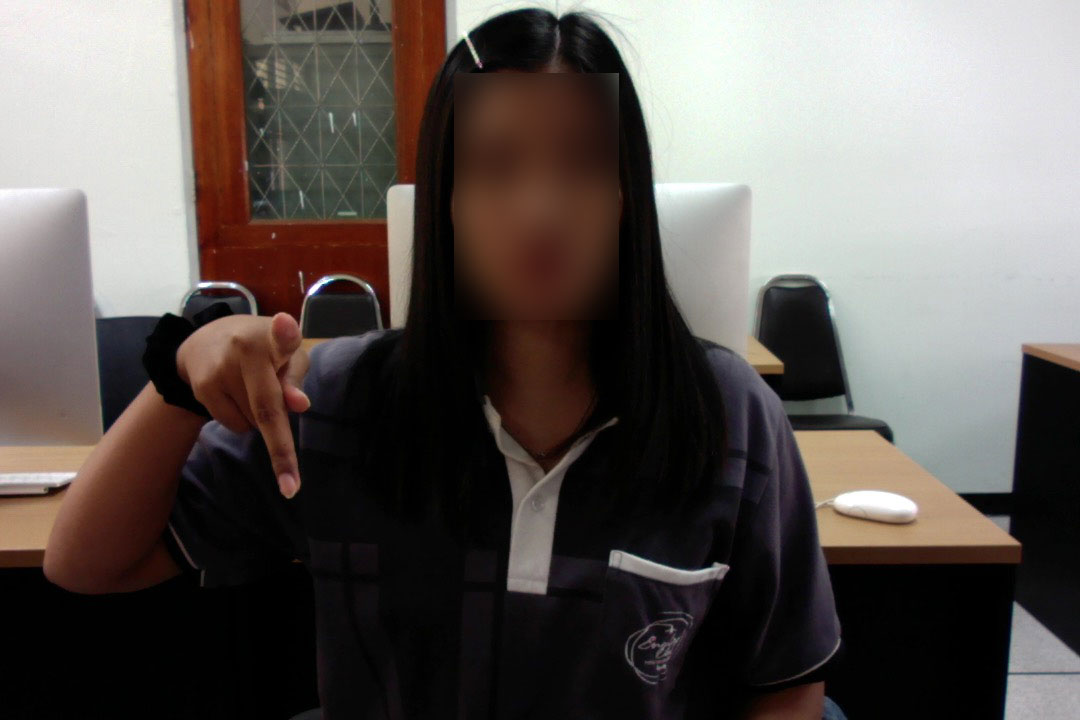por: (170, 300, 323, 509)
